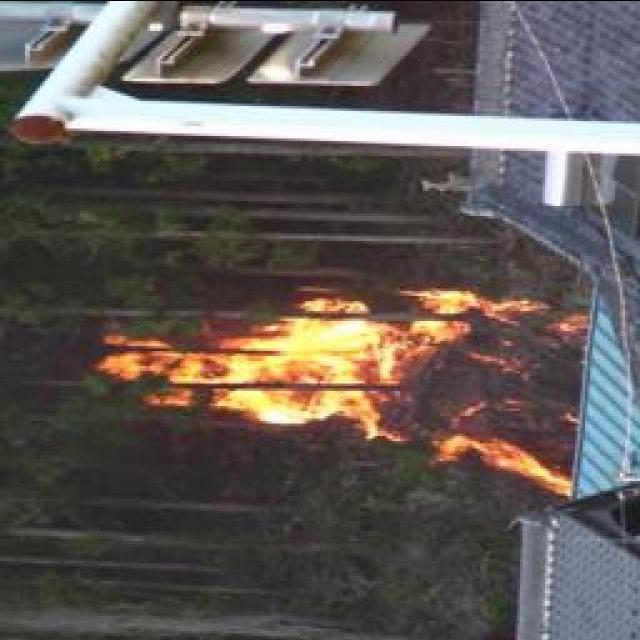Fire: (104, 288, 578, 479)
